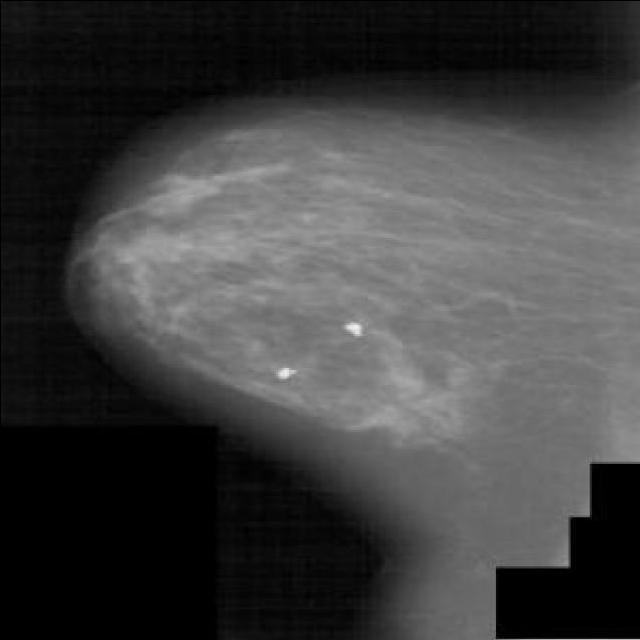tumor: (256, 284, 487, 463), (96, 154, 205, 340)
